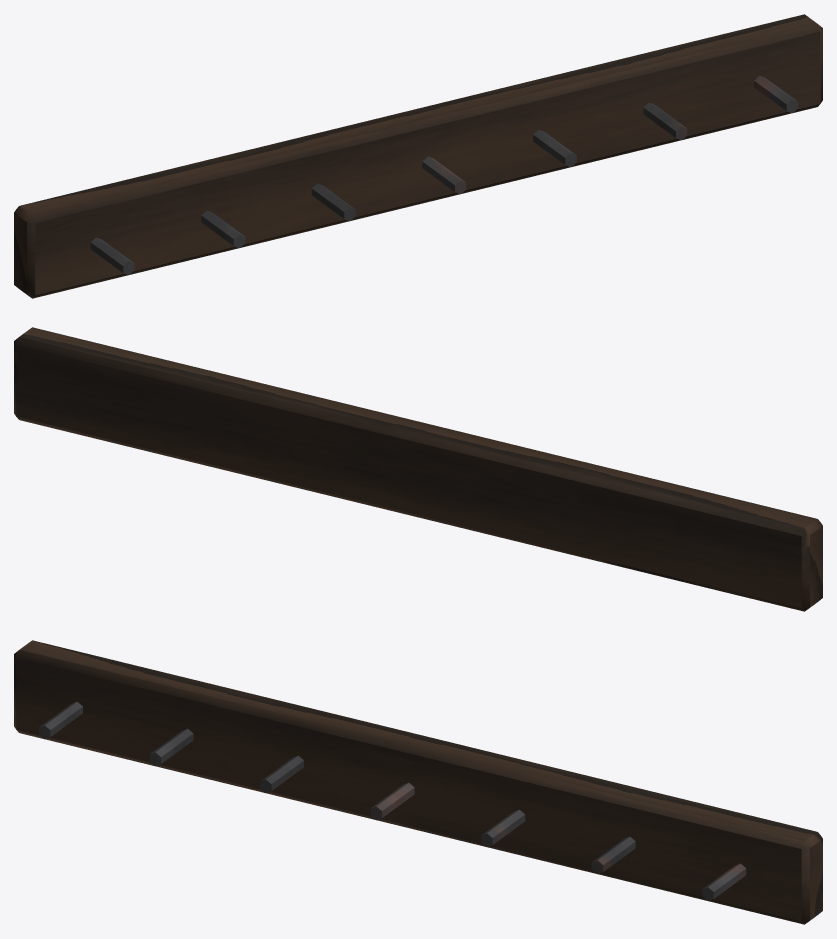
Rendered from SM_ToolRack.glb.
3 views of the same model, one above another, from view 1: azimuth 30°, elevation 25°; view 2: azimuth 150°, elevation 25°; view 3: azimuth 330°, elevation 25° (orthographic).
Visible parts, largest first — view 1: SM_ToolRack; view 2: SM_ToolRack; view 3: SM_ToolRack.
Part boxes in pixels (box(x1,y1,x2,y2)): SM_ToolRack: box(14, 14, 822, 298); SM_ToolRack: box(14, 327, 822, 611); SM_ToolRack: box(14, 640, 822, 924).
Bounding box in the file's own units: 1.2 × 0.12 × 0.135.
Materials: 1 (1 with a texture image).
